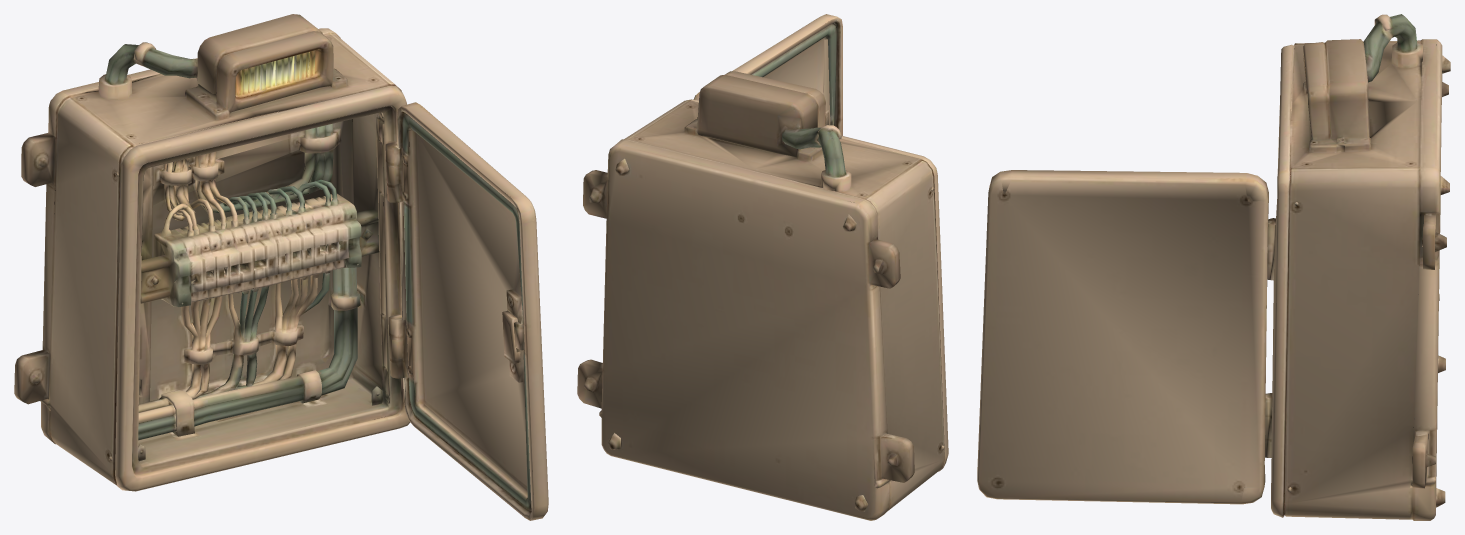
The model's file is service_panel.glb.
The picture shows the model from 3 angles, left to right: view 1: azimuth 30°, elevation 25°; view 2: azimuth 150°, elevation 25°; view 3: azimuth 270°, elevation 25°; orthographic projection. The views are drawn at different scales.
Visible parts, largest first — view 1: tripo_node_4d38511a-93e6-4f25-b4f0-eb2164ae282c; view 2: tripo_node_4d38511a-93e6-4f25-b4f0-eb2164ae282c; view 3: tripo_node_4d38511a-93e6-4f25-b4f0-eb2164ae282c.
Part boxes in pixels (left/top/right/bottom): tripo_node_4d38511a-93e6-4f25-b4f0-eb2164ae282c: left=14, top=14, right=548, bottom=520; tripo_node_4d38511a-93e6-4f25-b4f0-eb2164ae282c: left=577, top=14, right=948, bottom=520; tripo_node_4d38511a-93e6-4f25-b4f0-eb2164ae282c: left=977, top=14, right=1450, bottom=520.
Bounding box in the file's own units: 1.24 × 1.3 × 1.39.
1 material, 1 textured.
